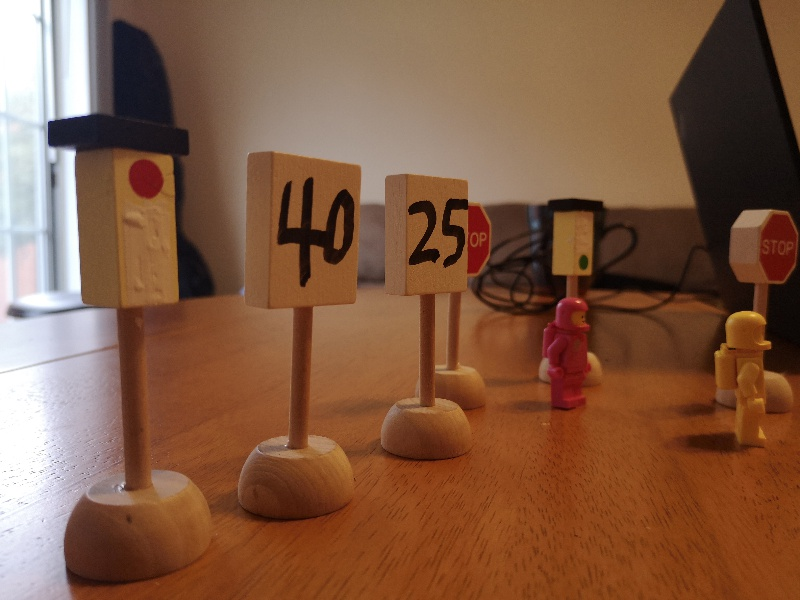Green Traffic Light: (546, 198, 603, 278)
Person: (713, 310, 775, 447), (541, 297, 596, 411)
Red Traffic Light: (45, 115, 191, 306)
Speed Limit 25: (384, 172, 469, 294)
Speed Limit 40: (245, 150, 362, 309)
Stop Sign: (728, 209, 800, 287), (466, 204, 492, 277)
